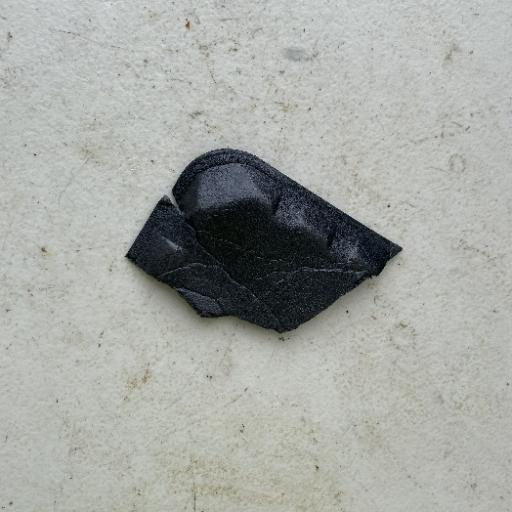Plastic: (122, 145, 404, 336)
